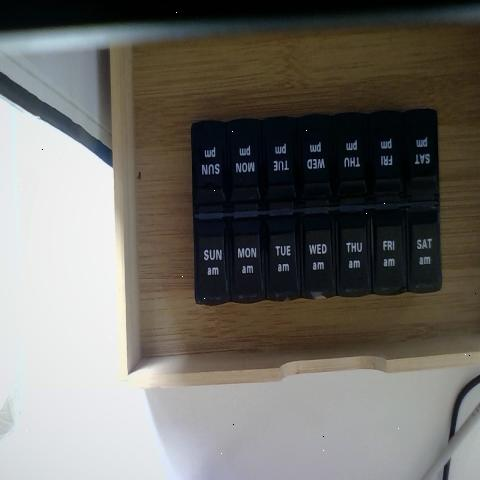FRI-am: (370, 208, 404, 296)
FRI-pm: (369, 117, 404, 201)
MON-am: (227, 218, 264, 301)
MON-pm: (225, 126, 263, 212)
SAT-am: (406, 206, 442, 295)
SAT-pm: (405, 120, 439, 202)
SUN-am: (196, 219, 228, 305)
SUN-pm: (192, 126, 226, 214)
THU-am: (335, 207, 370, 296)
THU-pm: (333, 121, 366, 204)
TUE-am: (264, 226, 296, 305)
TUE-pm: (261, 125, 298, 209)
WED-am: (298, 213, 333, 299)
WED-pm: (298, 123, 332, 208)
